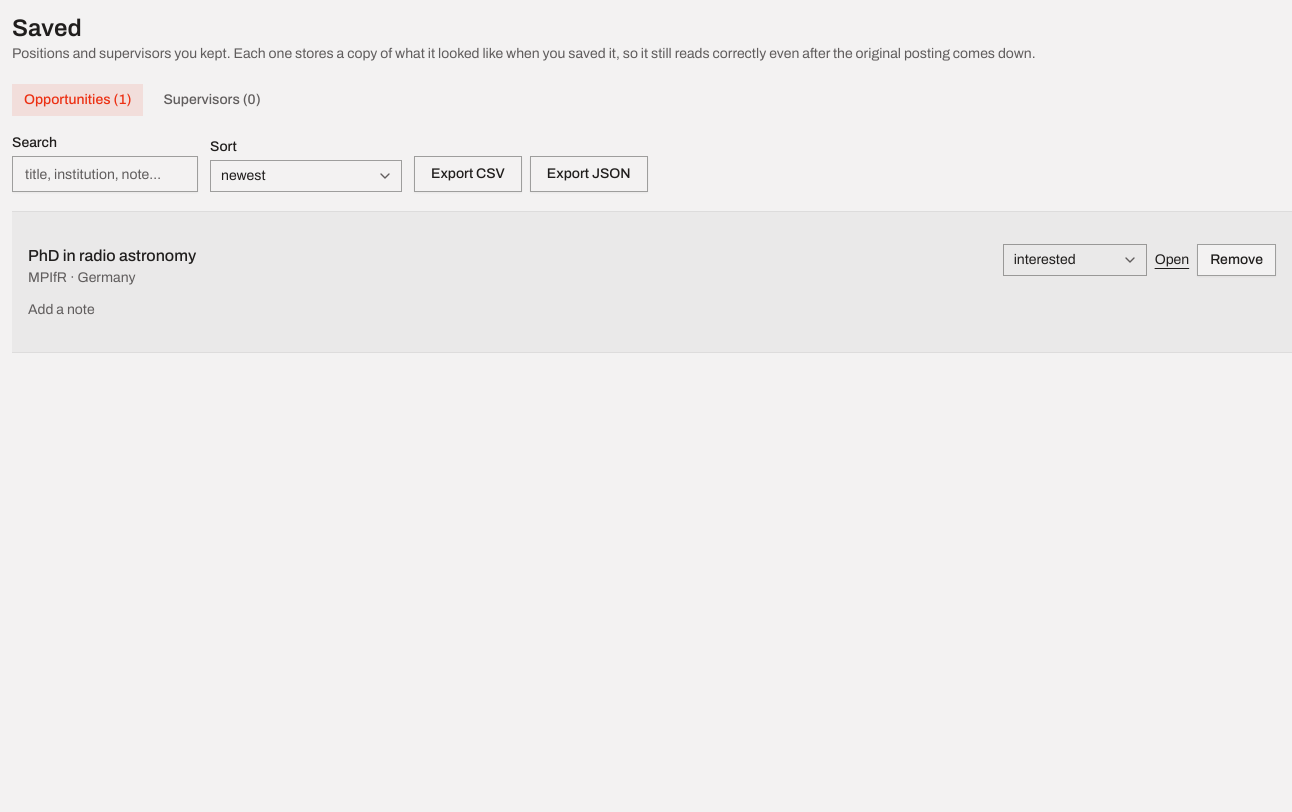
Test: Saved view › removes an entry
This screenshot has width=1292, height=812.
Expected: the element with test id "saved-card" is shown, [12, 212, 1291, 352]
Click the button with aria-label "Remove PhD in radio astronomy from saved".
click(1237, 260)  # box [1197, 244, 1276, 276]
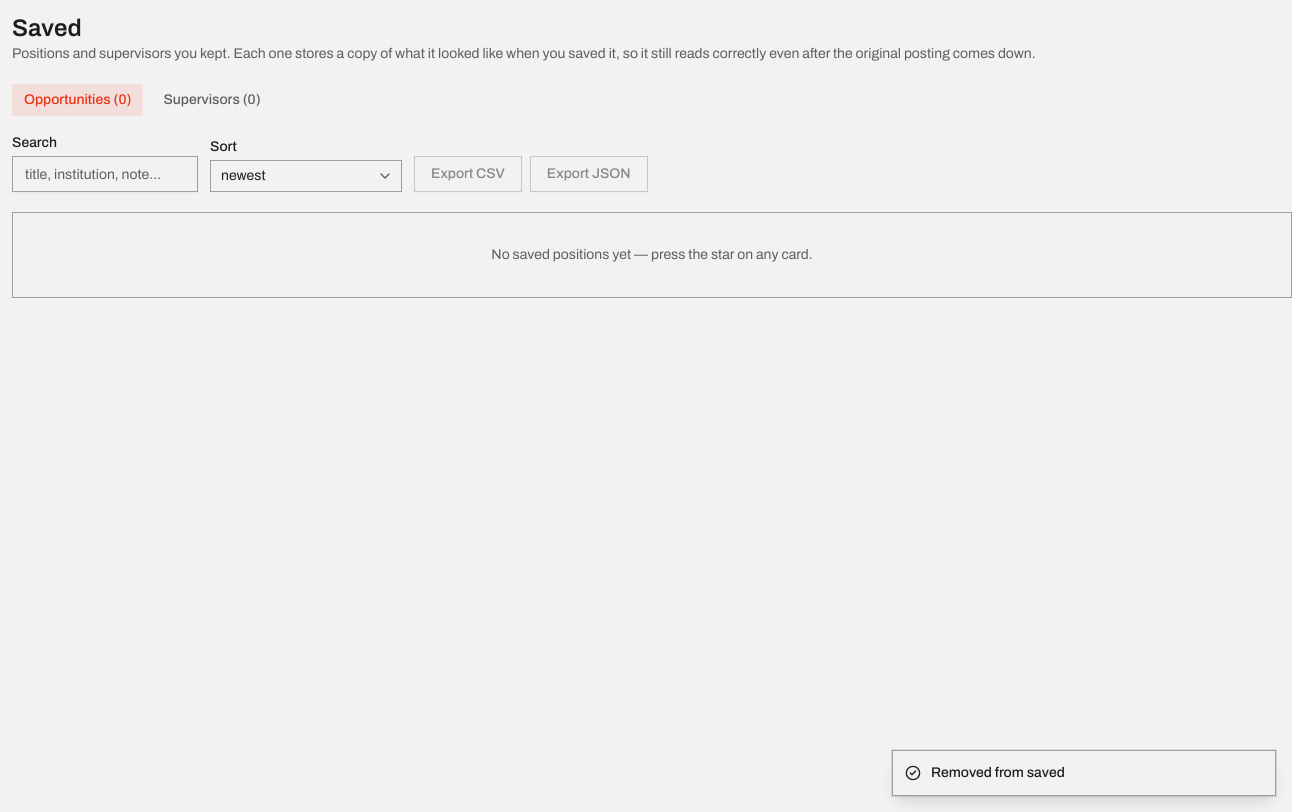
Expected: the element with test id "saved-card" is gone
